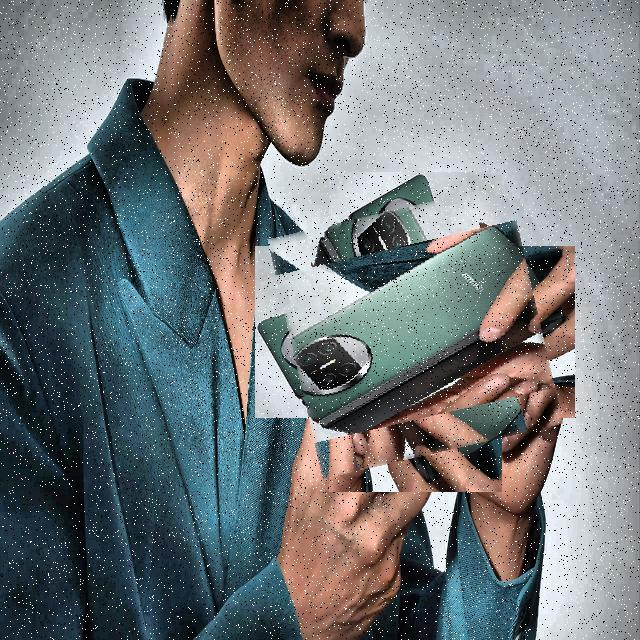Phone: (280, 197, 551, 468)
